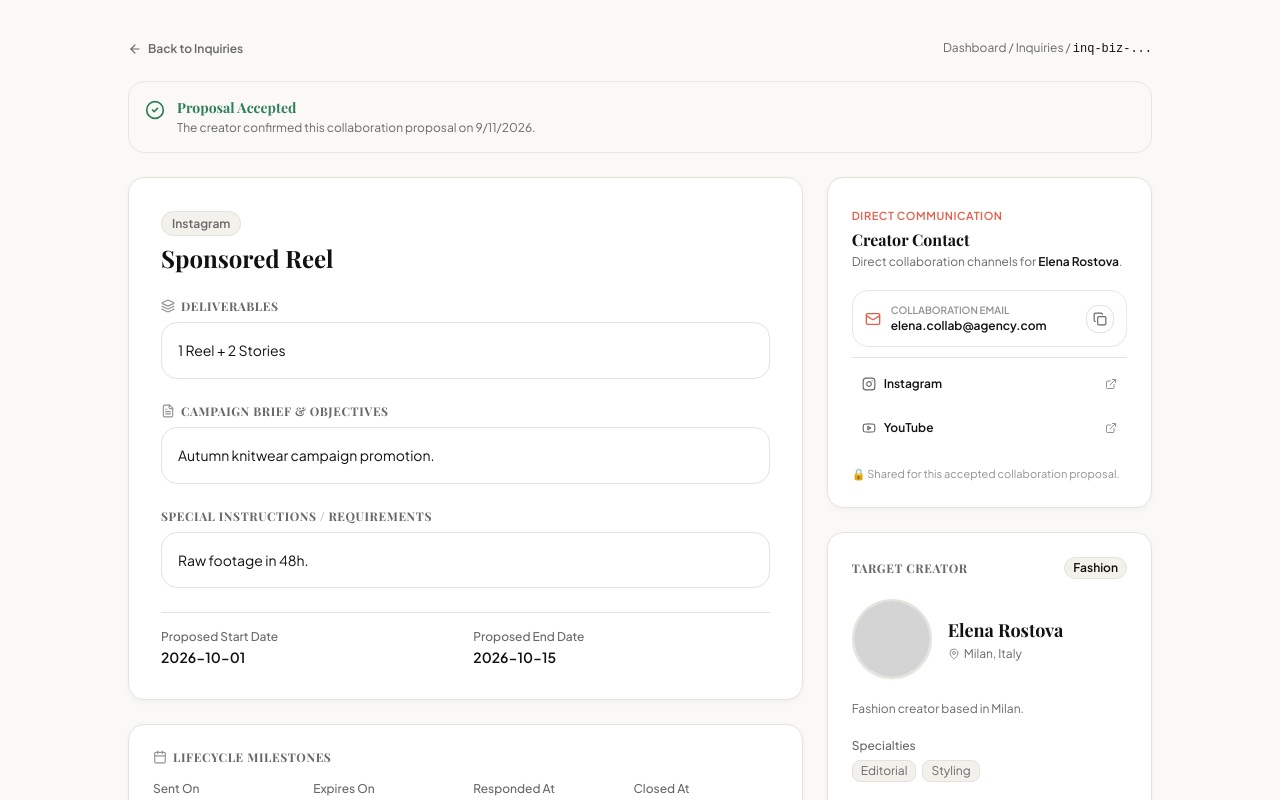
Test: Phase 11B Frontend Controlled Contact Exchange Test Suite › 13. Provides accessible attributes, copy-to-clipboard functionality, and safe external links
This screenshot has width=1280, height=800.
Check: the heading "Creator Contact" is shown, box [852,229,970,250]
Click the button named "Copy email address": click(1100, 318) [1086,304,1114,332]
(page scrolled)
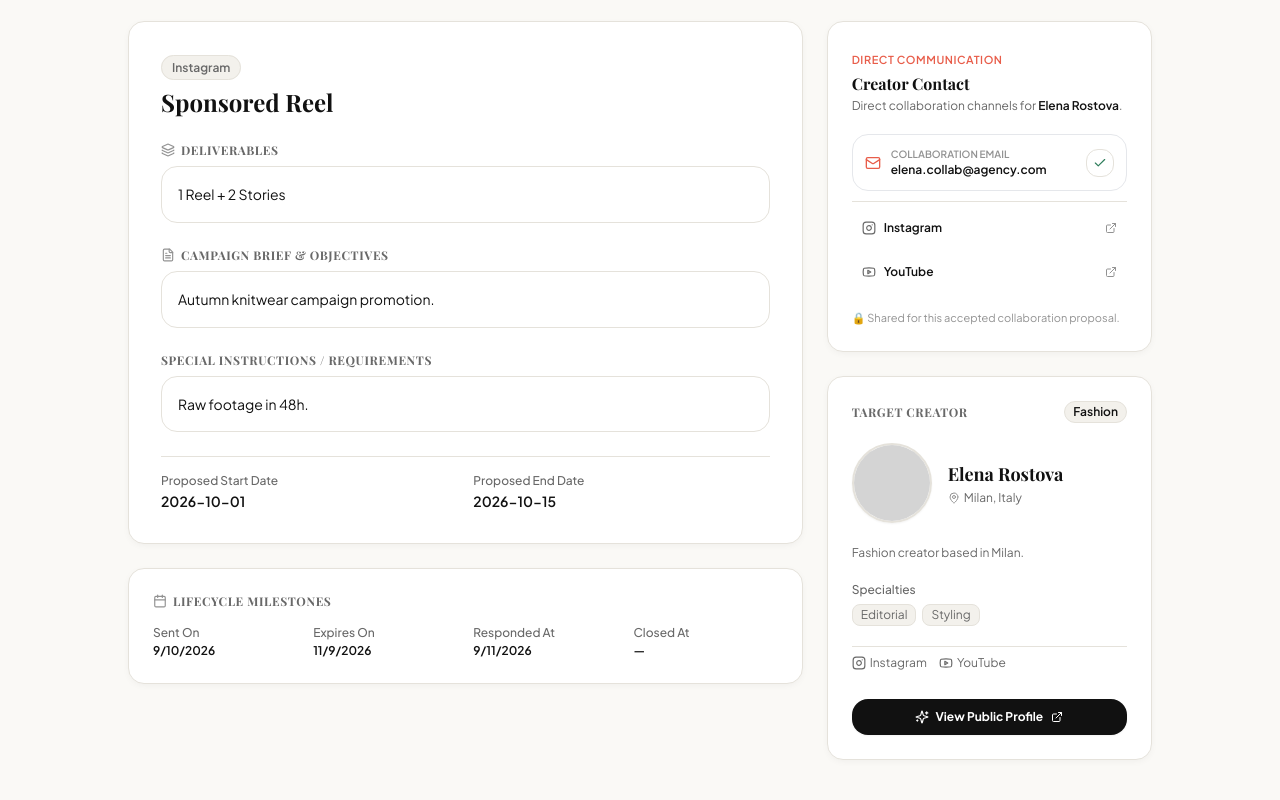
Check: the button named "Email copied" is shown, box [1086,148,1114,176]
